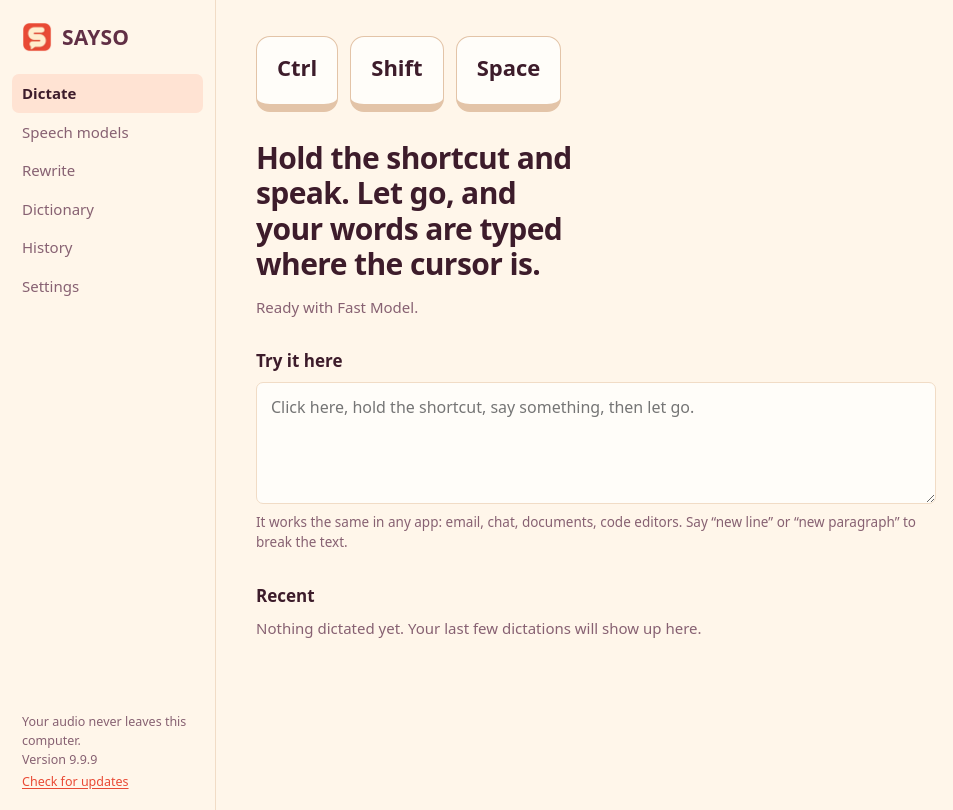
Test: navigation › opens every screen
Expected: the navigation bar is shown, 0,0 -> 216,809
Click the button "Speech models" at [108, 132], box 12,112 -> 203,151
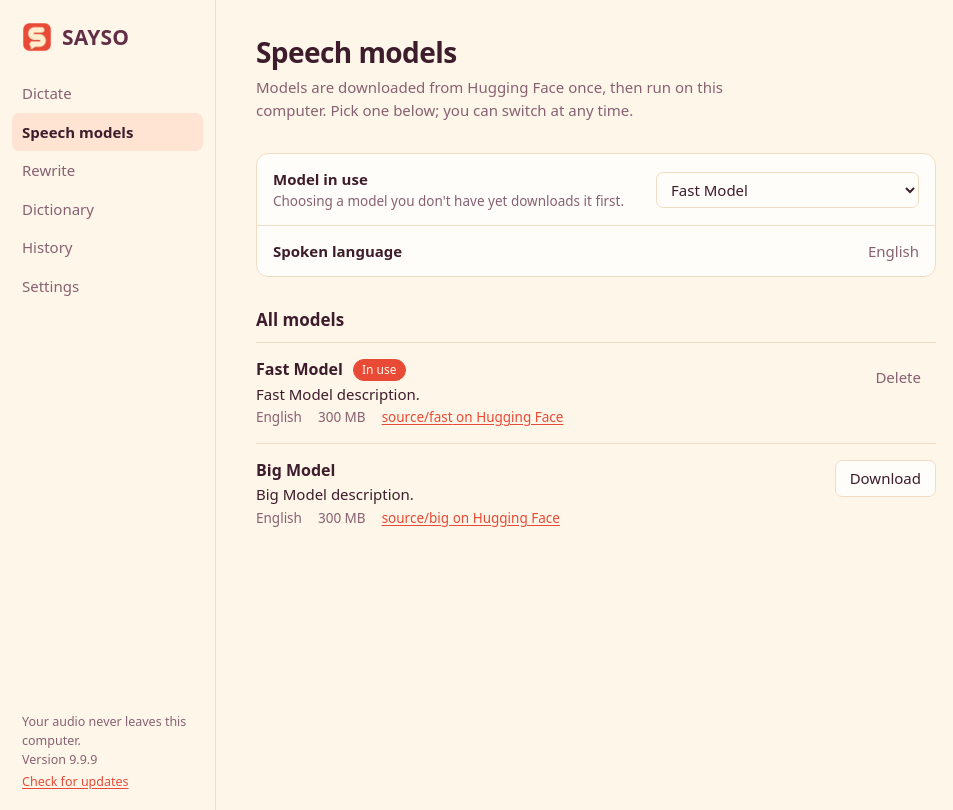
Expected: the heading "Speech models" is shown, 256,33 -> 457,71
Click the button "Rewrite" at [108, 170], box 12,151 -> 203,190
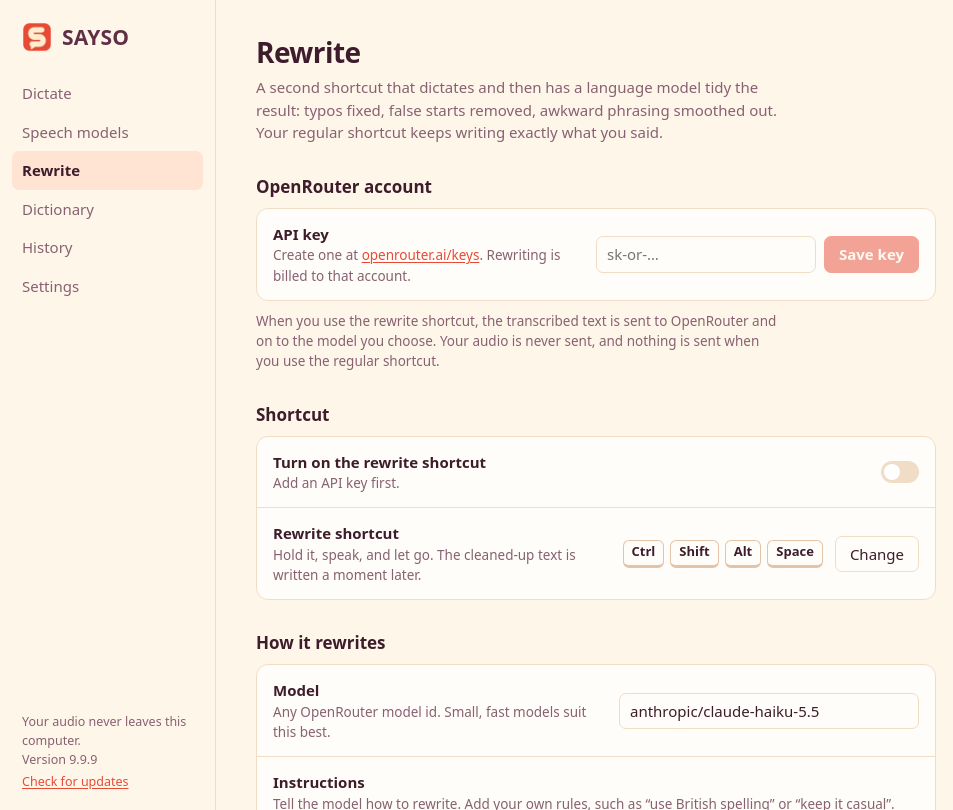
Expected: the heading "Rewrite" is shown, 256,33 -> 360,71
Click the button "Dictionary" at [108, 209], box 12,190 -> 203,228
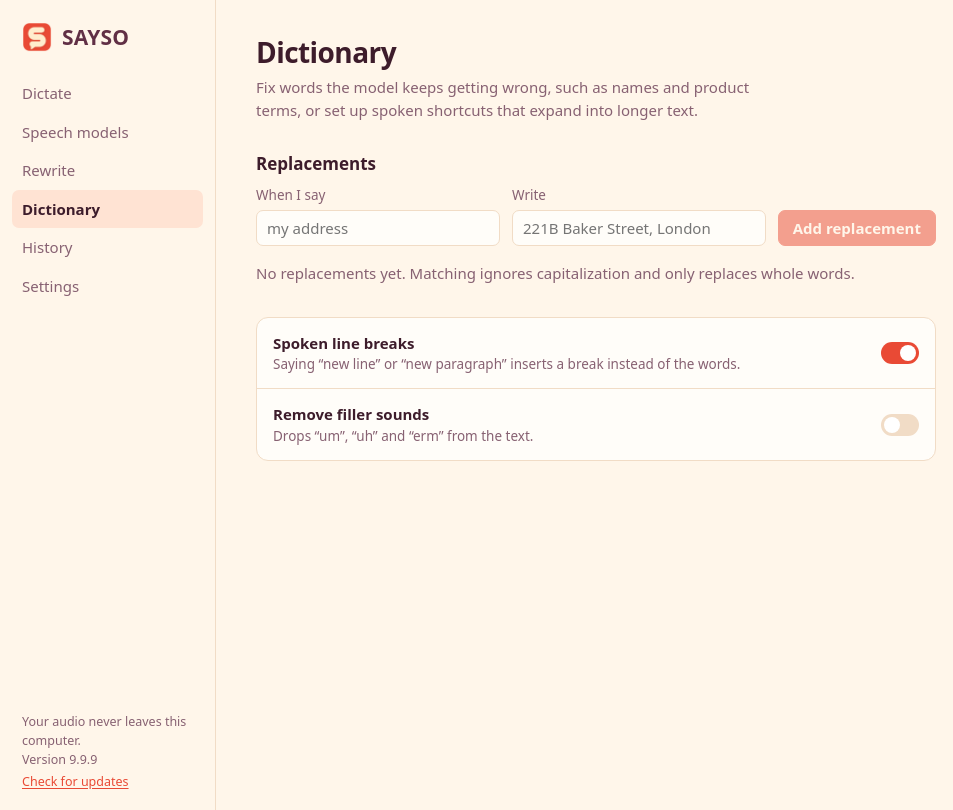
Expected: the heading "Dictionary" is shown, 256,33 -> 396,71
Click the button "History" at [108, 247], box 12,228 -> 203,266
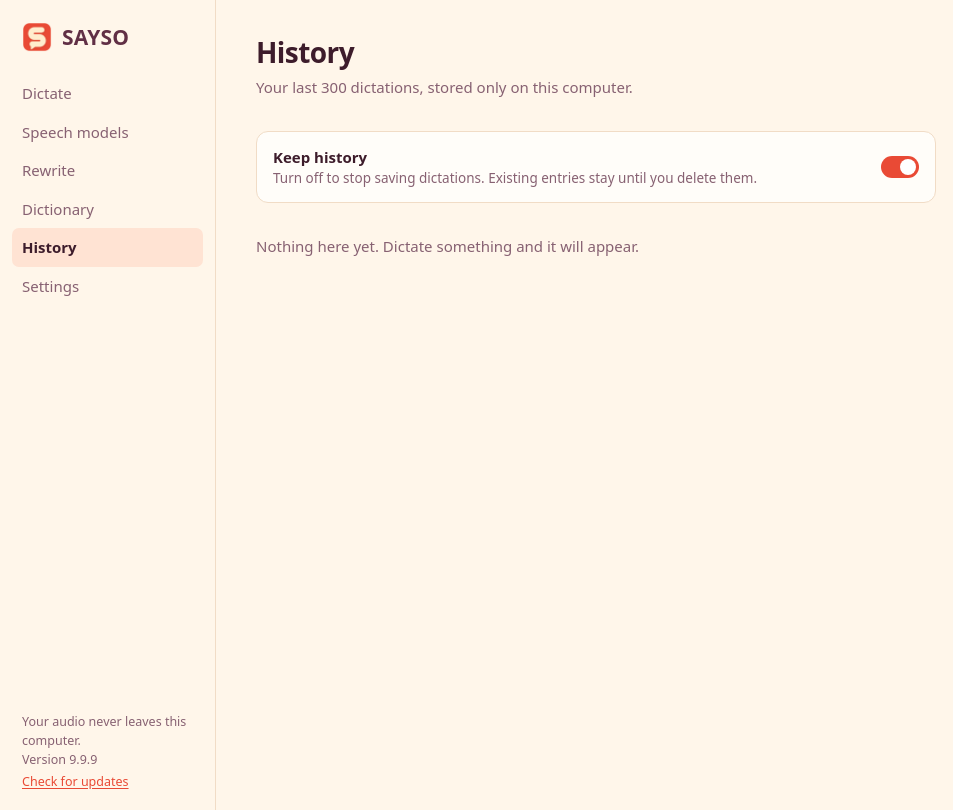
Expected: the heading "History" is shown, 256,33 -> 354,71
Click the button "Settings" at [108, 286], box 12,266 -> 203,305
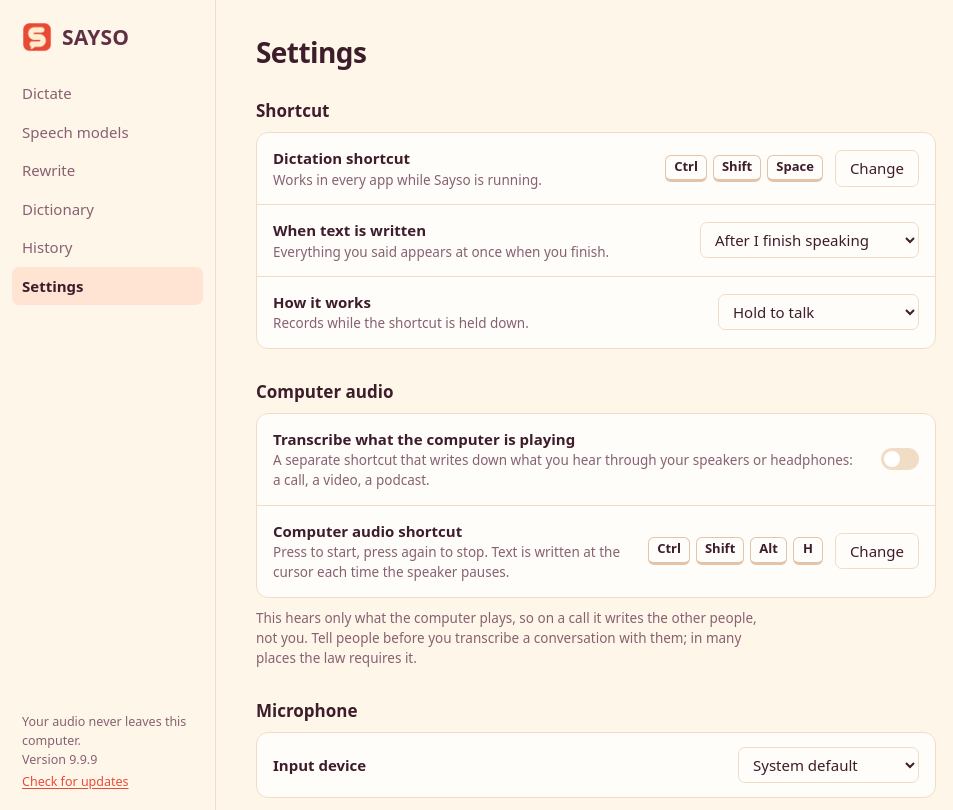
Expected: the heading "Settings" is shown, 256,33 -> 366,71
Click the button "Dictate" at [108, 93], box 12,74 -> 203,112
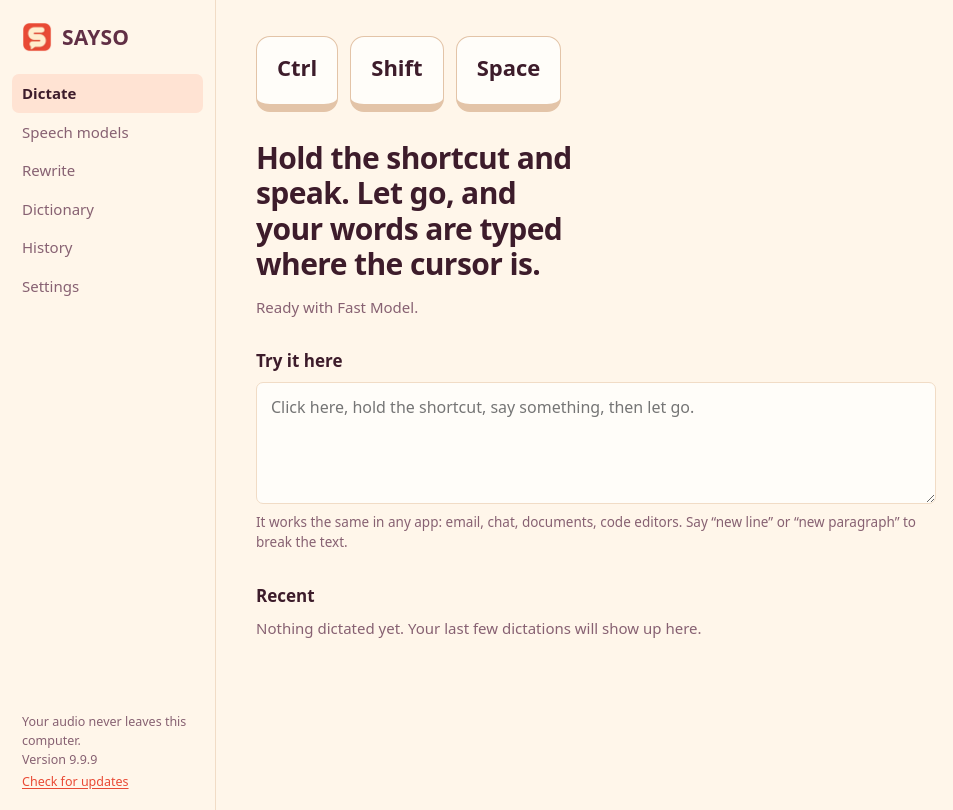
Expected: the 1st heading is shown, 256,137 -> 572,284
Now the text "Ready with Fast Model." is shown, box 256,297 -> 418,317
